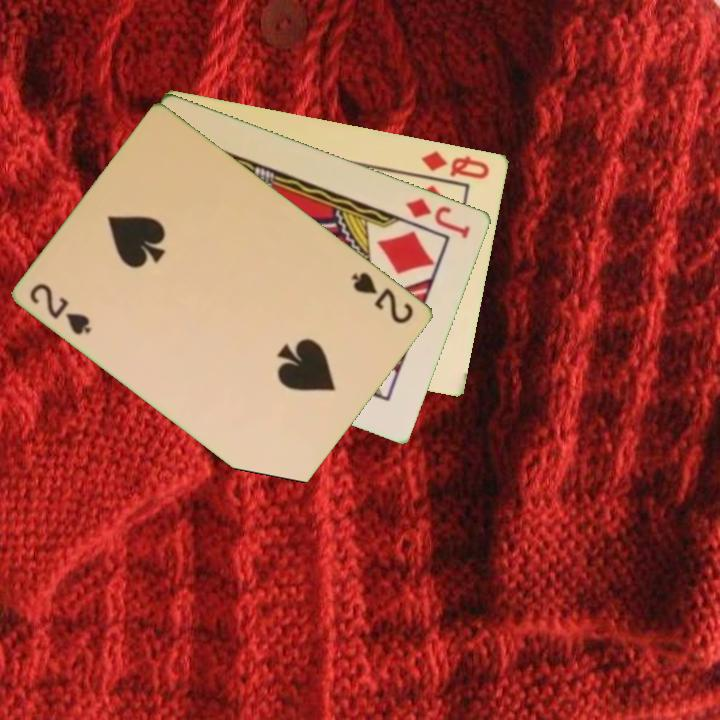2s: (348, 268, 417, 327), (26, 279, 95, 338)
Jd: (403, 194, 474, 241)
Qd: (418, 147, 493, 182)
